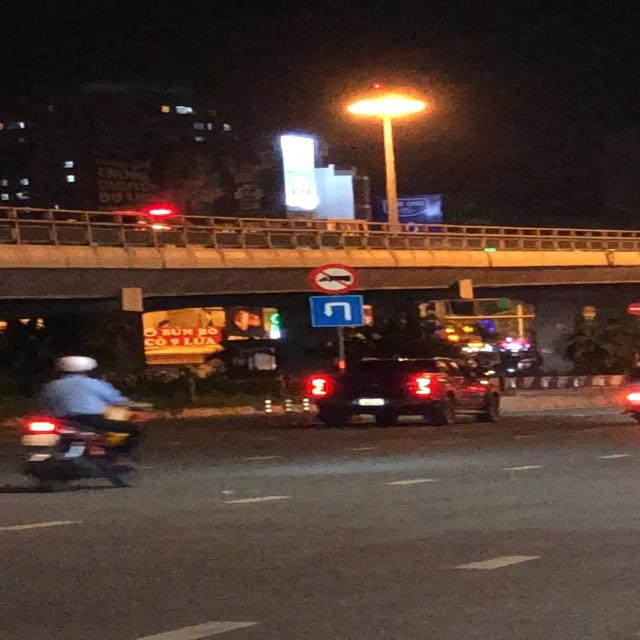Bien bao cam xe so-mi ro-mooc: (305, 262, 358, 294)
